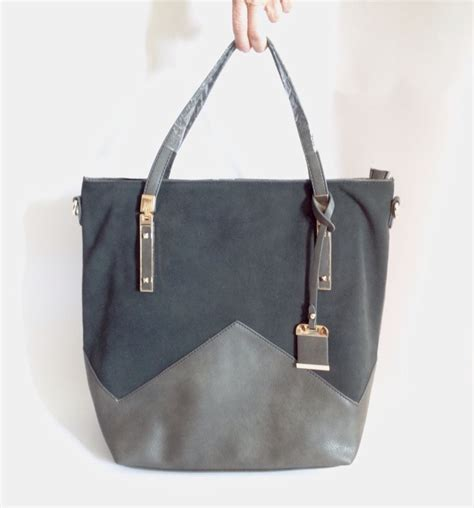gamuza: (80, 174, 395, 404)
